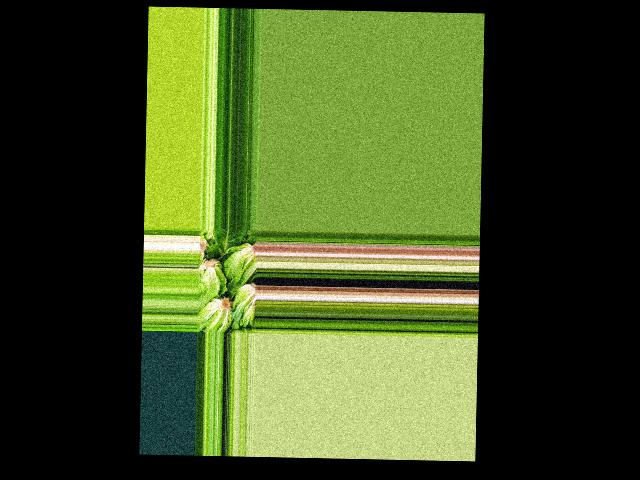lettuce: (213, 228, 237, 253)
